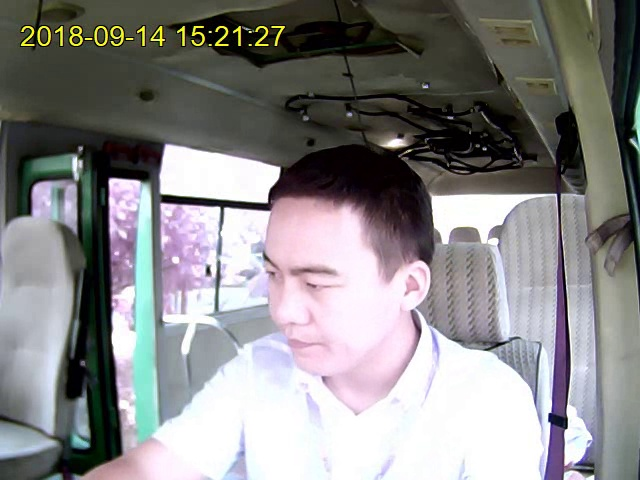closed_mouth: (283, 332, 324, 353)
